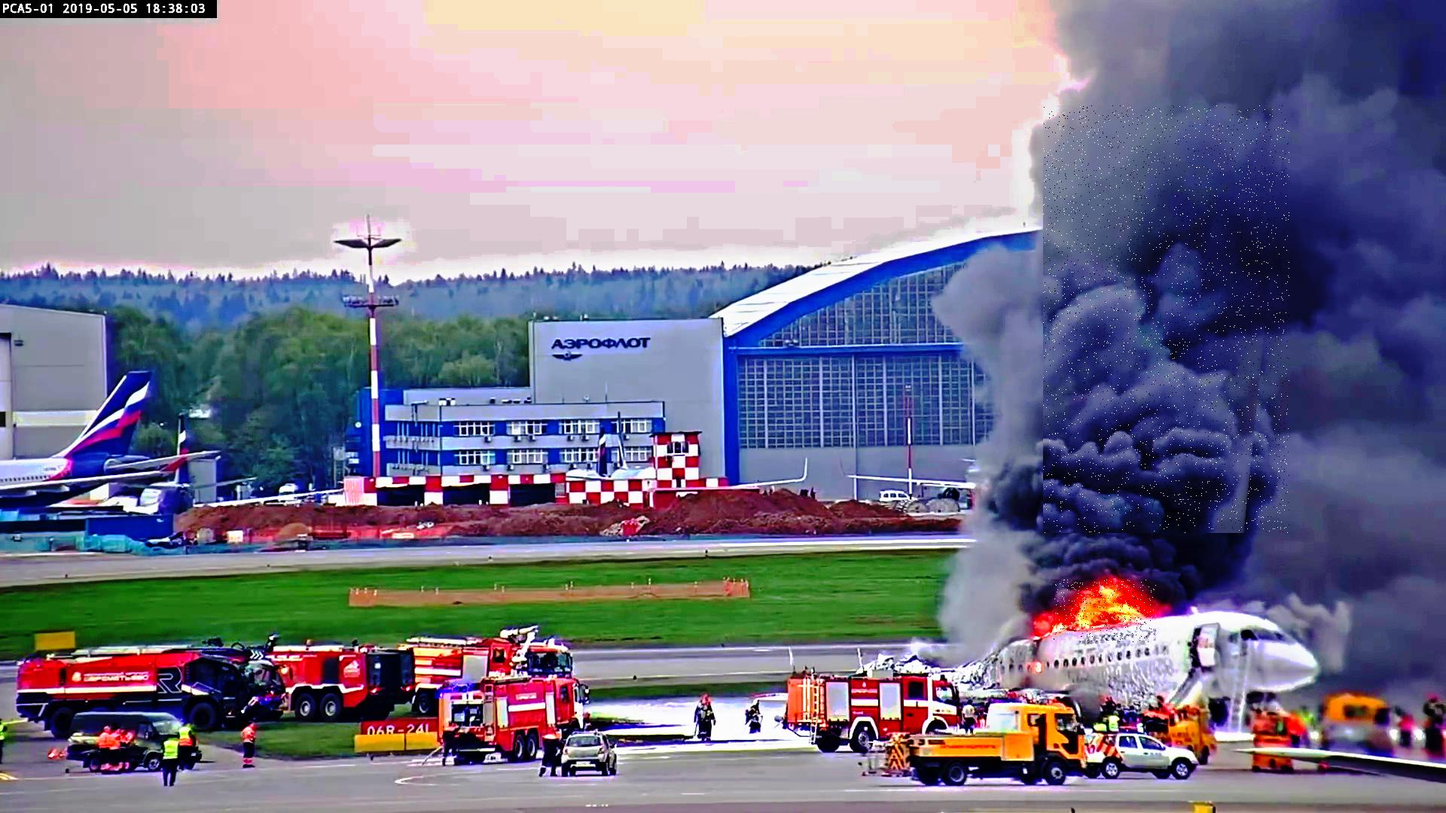fire: (1052, 580, 1156, 643)
smoke: (1044, 106, 1290, 533)
